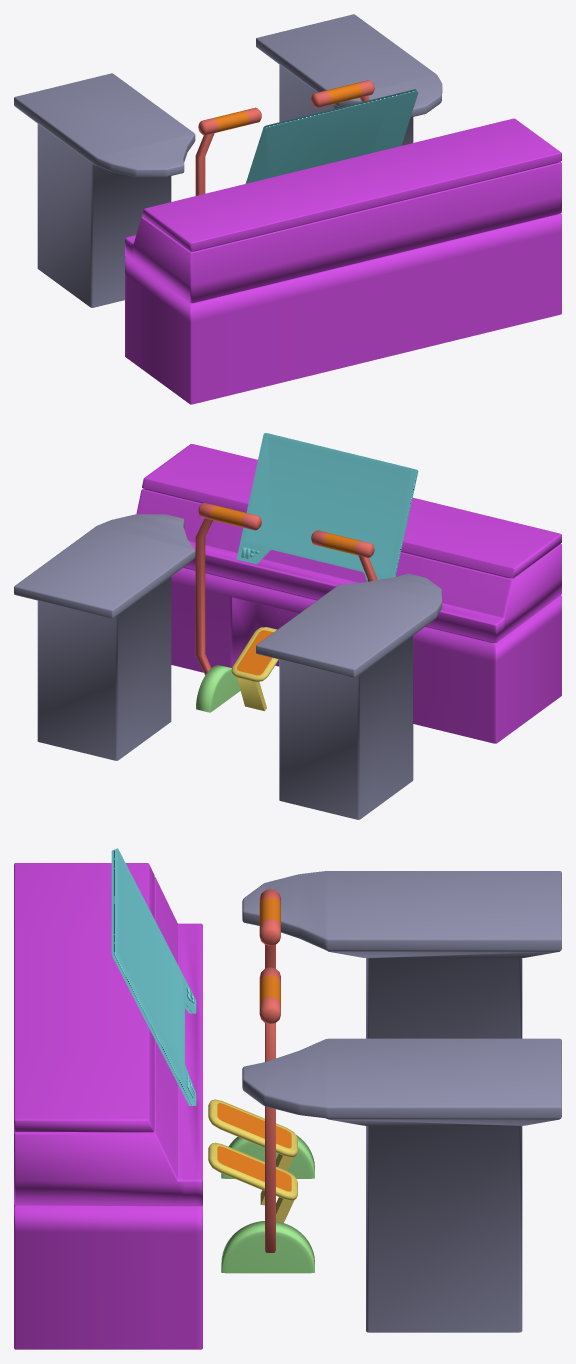
File: Main Panel.fbx
The picture shows the model from 3 angles, top to bottom: view 1: azimuth 30°, elevation 25°; view 2: azimuth 150°, elevation 25°; view 3: azimuth 270°, elevation 25°; orthographic projection. The views are drawn at different scales.
Visible parts, largest first — view 1: Cube, Side Panels, Screen, Lever; view 2: Side Panels, Cube, Screen, Lever, Pedels, bumper; view 3: Side Panels, Cube, Screen, Pedels, bumper, Lever.
Boxes of the visible parts, x1,y1,x2,y2 form: Cube: (125, 118, 561, 404); Side Panels: (14, 14, 442, 307); Screen: (245, 89, 418, 183); Lever: (195, 80, 374, 195); Side Panels: (14, 514, 442, 819); Cube: (136, 444, 561, 743); Screen: (236, 433, 418, 581); Lever: (195, 502, 377, 674); Pedels: (231, 627, 278, 711); bumper: (196, 665, 240, 712); Side Panels: (242, 871, 561, 1332); Cube: (14, 863, 202, 1349); Screen: (111, 848, 196, 1105); Pedels: (208, 1099, 297, 1222); bumper: (221, 1135, 314, 1273); Lever: (259, 889, 280, 1252).
Size of the model in its own units: 146 by 84.65 by 131.
